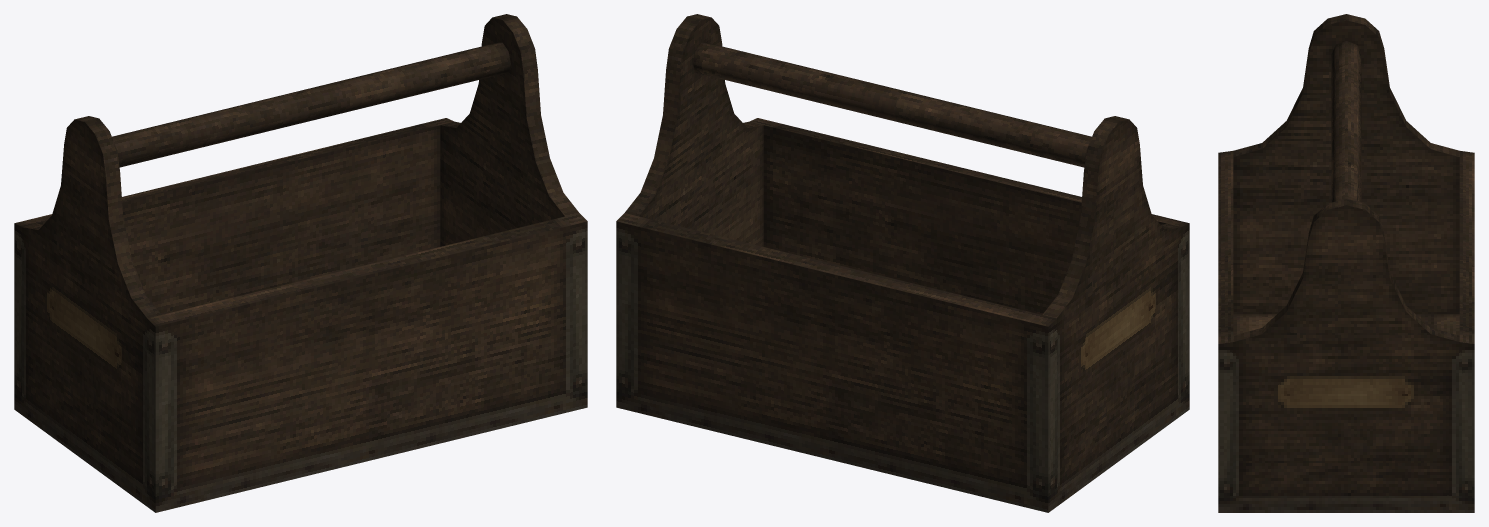
The model's file is toolbox_mx_1.glb.
3 renders of one model, left to right at view 1: azimuth 30°, elevation 25°; view 2: azimuth 150°, elevation 25°; view 3: azimuth 270°, elevation 25°, orthographic. The views are drawn at different scales.
Visible parts, largest first — view 1: toolbox_mx_1; view 2: toolbox_mx_1; view 3: toolbox_mx_1.
Boxes of the visible parts, left/top/right/bottom form: toolbox_mx_1: left=14, top=14, right=587, bottom=512; toolbox_mx_1: left=616, top=14, right=1189, bottom=512; toolbox_mx_1: left=1218, top=14, right=1474, bottom=512.
Bounding box in the file's own units: 0.6 × 0.45 × 0.34.
1 material, 1 textured.
